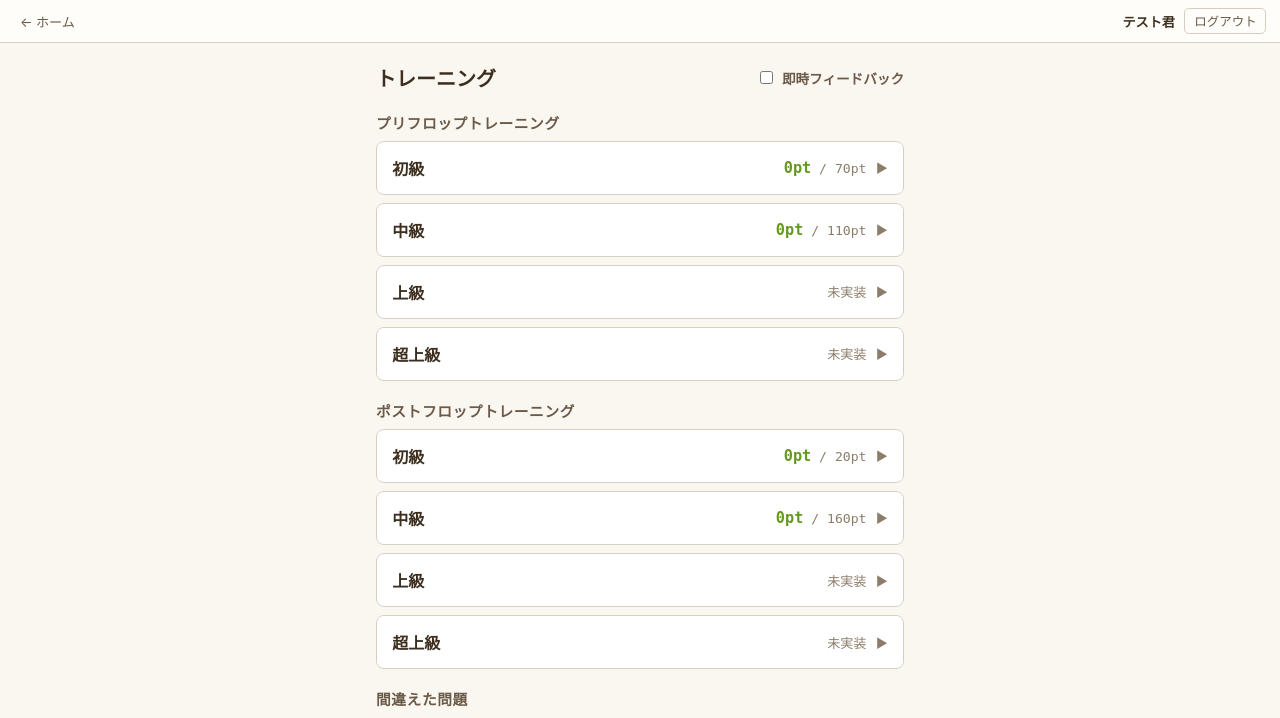
<QuizPage /> アコーディオン開閉 › 初級見出しをタップで展開 → スタート/ルールを確認 が出る。再タップで閉じる
expect the text "スタート" is not shown: met
Click the button "初級 0pt / 70pt ▶" at (408, 169), box [377,142,903,194]
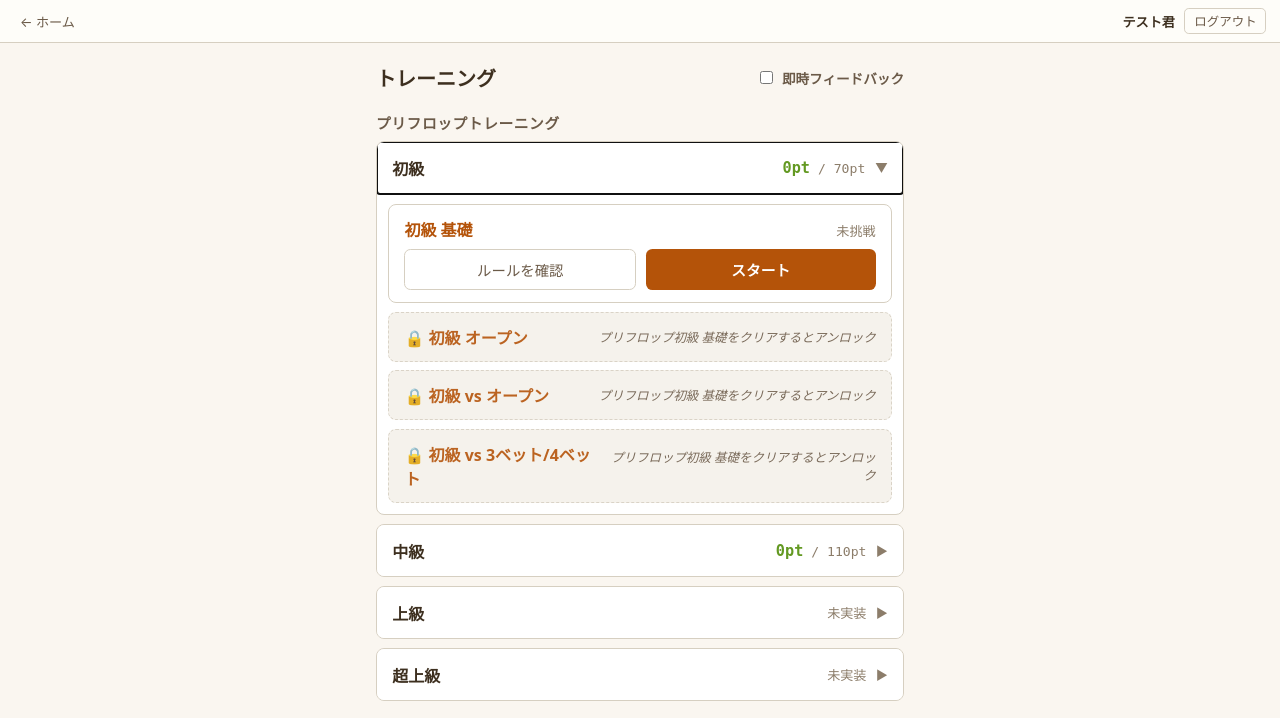
# 再タップで閉じる。
Click the button "初級 0pt / 70pt ▼" at (408, 169), box [377,142,903,194]
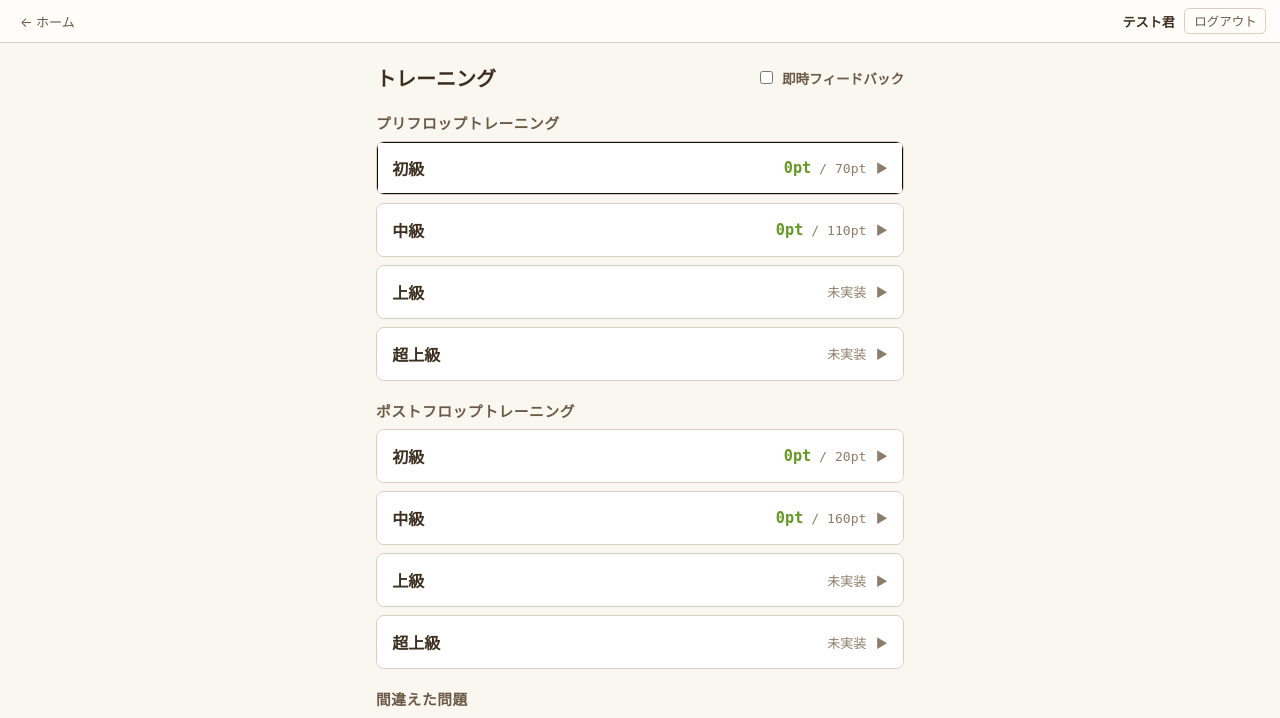
expect the button "スタート" is gone: met
